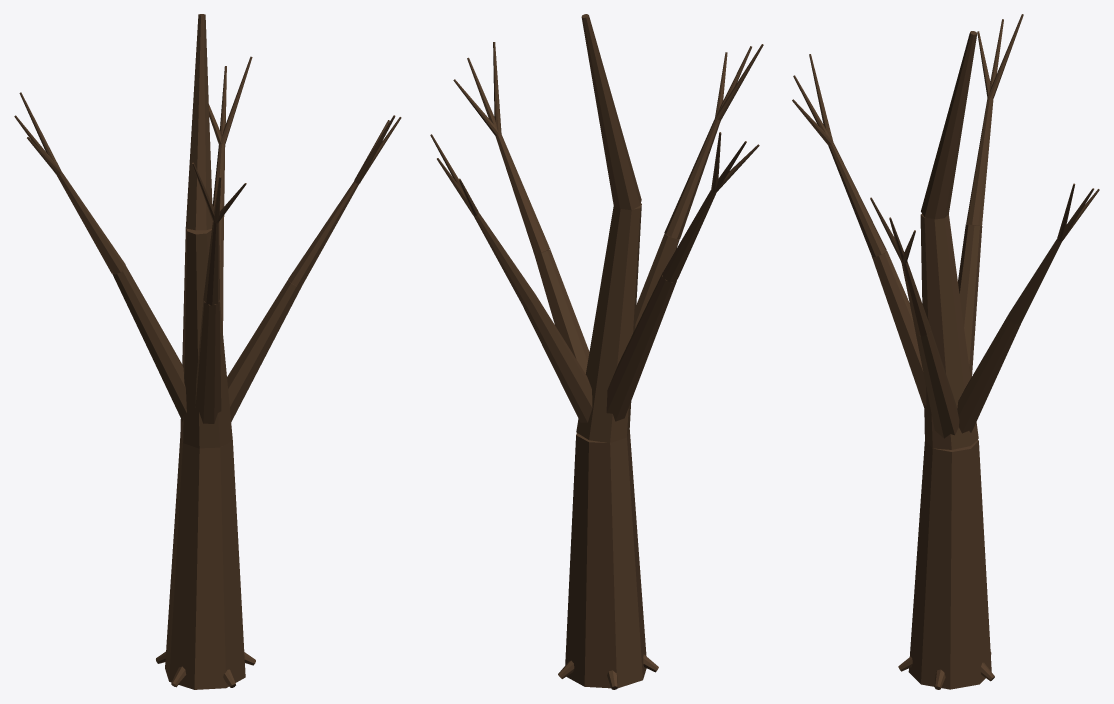
File: apple_sapling_winter.glb
3 views of the same model, side by side, from view 1: azimuth 30°, elevation 25°; view 2: azimuth 150°, elevation 25°; view 3: azimuth 270°, elevation 25° (orthographic). The views are drawn at different scales.
Visible parts, largest first — view 1: apple_sapling_winter; view 2: apple_sapling_winter; view 3: apple_sapling_winter.
Part boxes in pixels (x1,y1,x2,y2): apple_sapling_winter: (14,14,401,689); apple_sapling_winter: (430,14,763,689); apple_sapling_winter: (792,14,1099,689).
Bounding box in the file's own units: 3.02 × 5.65 × 2.45.
